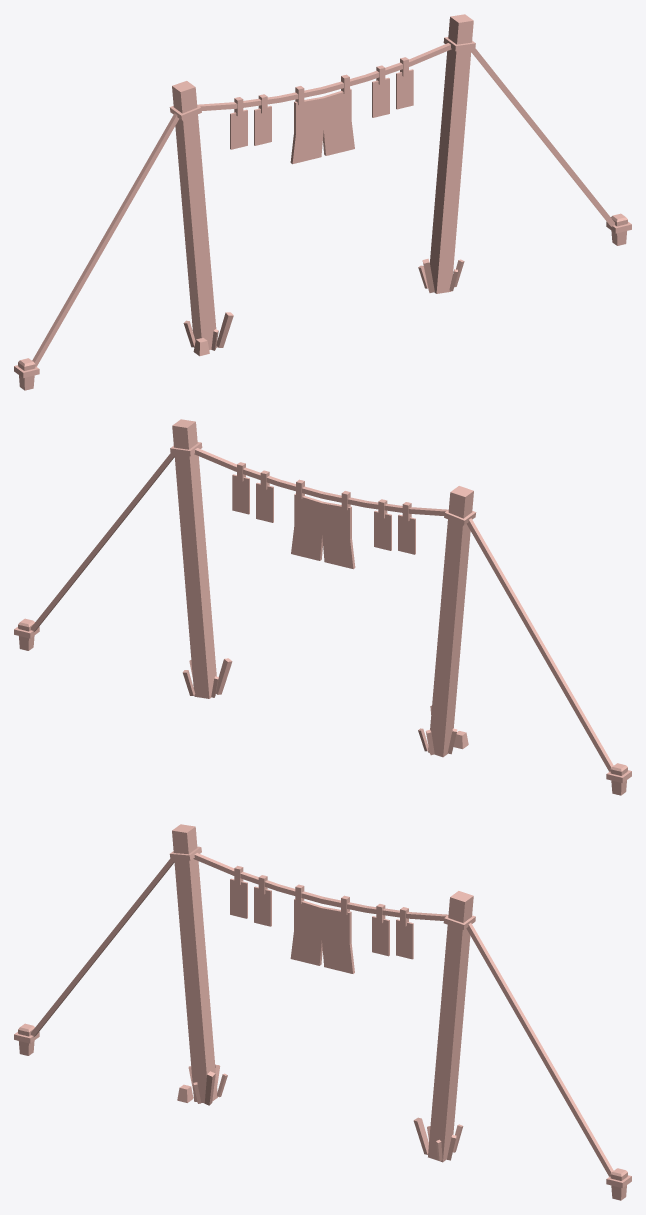
The model's file is Mega_Asset_s_Pack_Cube_317.FBX.
The picture shows the model from 3 angles, top to bottom: view 1: azimuth 30°, elevation 25°; view 2: azimuth 150°, elevation 25°; view 3: azimuth 330°, elevation 25°; orthographic projection.
Parts seen in each view (by area): view 1: Mega_Asset_s_Pack_Cube_317; view 2: Mega_Asset_s_Pack_Cube_317; view 3: Mega_Asset_s_Pack_Cube_317.
Boxes of the visible parts, x1,y1,x2,y2 form: Mega_Asset_s_Pack_Cube_317: (14,14,631,390); Mega_Asset_s_Pack_Cube_317: (14,419,631,795); Mega_Asset_s_Pack_Cube_317: (14,824,631,1200).
Size of what is drawn, in the model's own units: 650 by 43.18 by 273.
